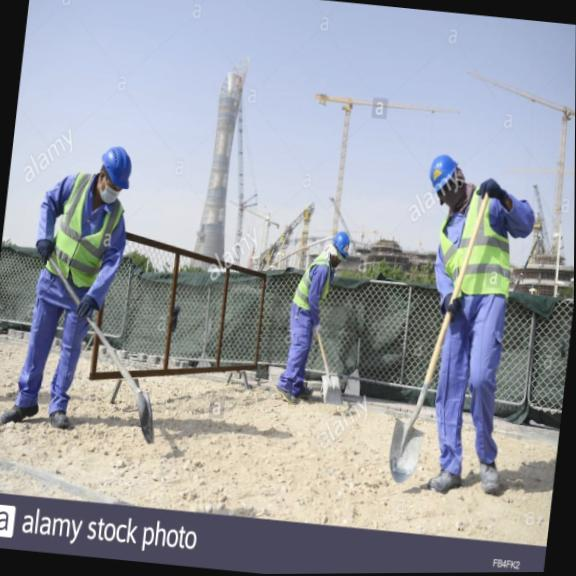safety_vest: (443, 199, 514, 304), (51, 189, 110, 299)
